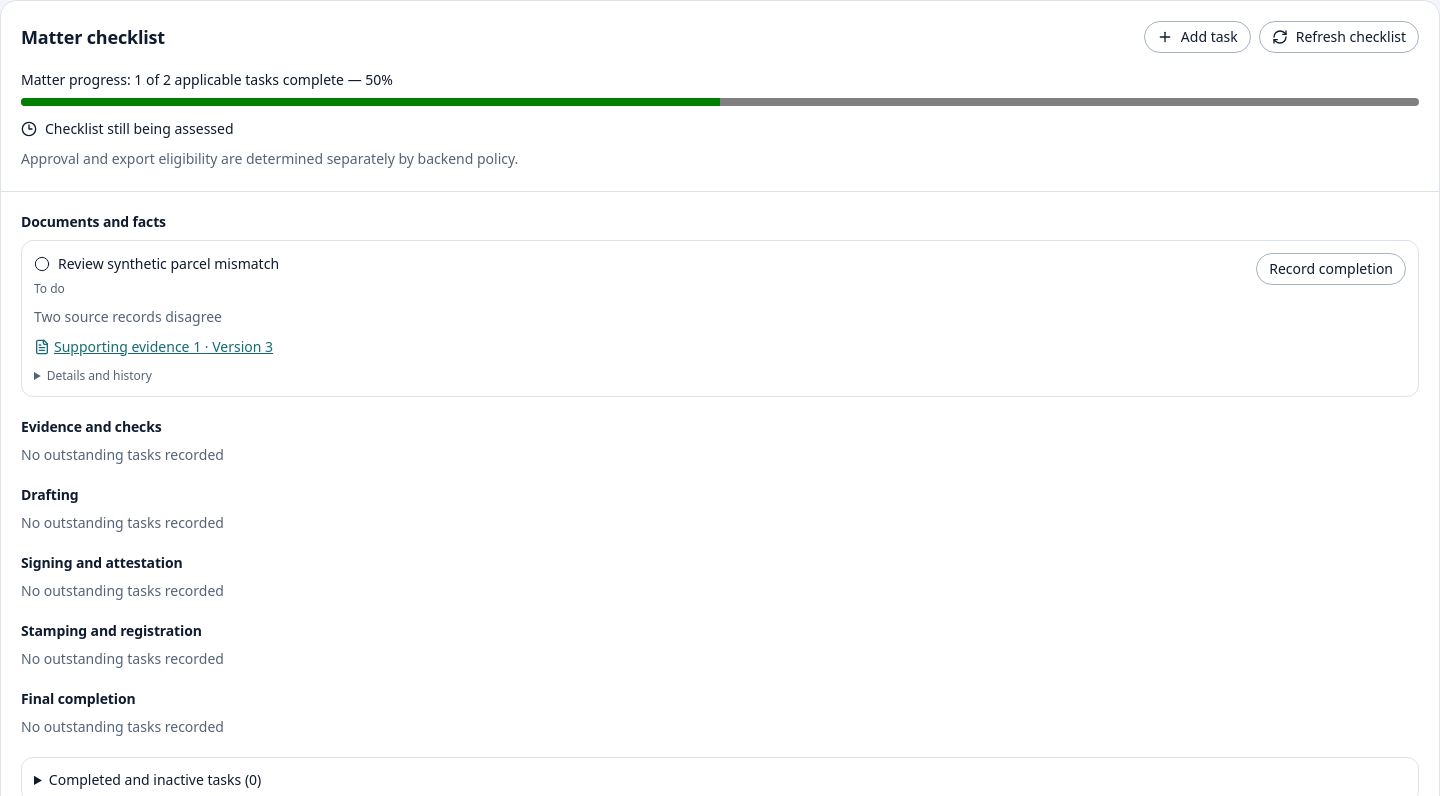
retains accepted suggestion source pins when completing and shows renewed review after a source change
The width and height of the screenshot is (1440, 796).
Click the button "Record completion" at [1331, 269], box [1256, 253, 1406, 285]
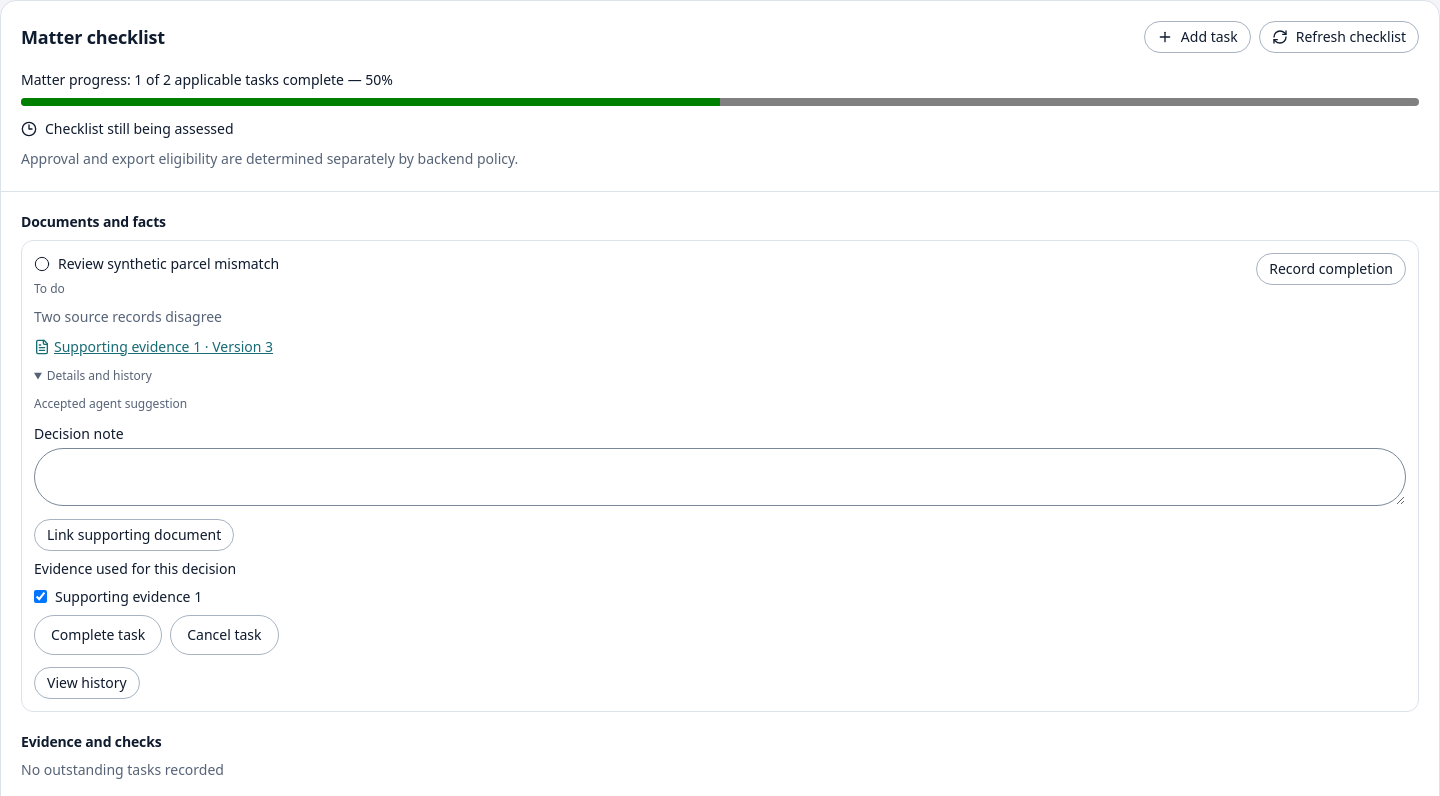
Expected: the checkbox labelled "Supporting evidence 1" is checked, [34, 590, 47, 603]
Click the button "Complete task" at [98, 634], box [34, 614, 162, 654]
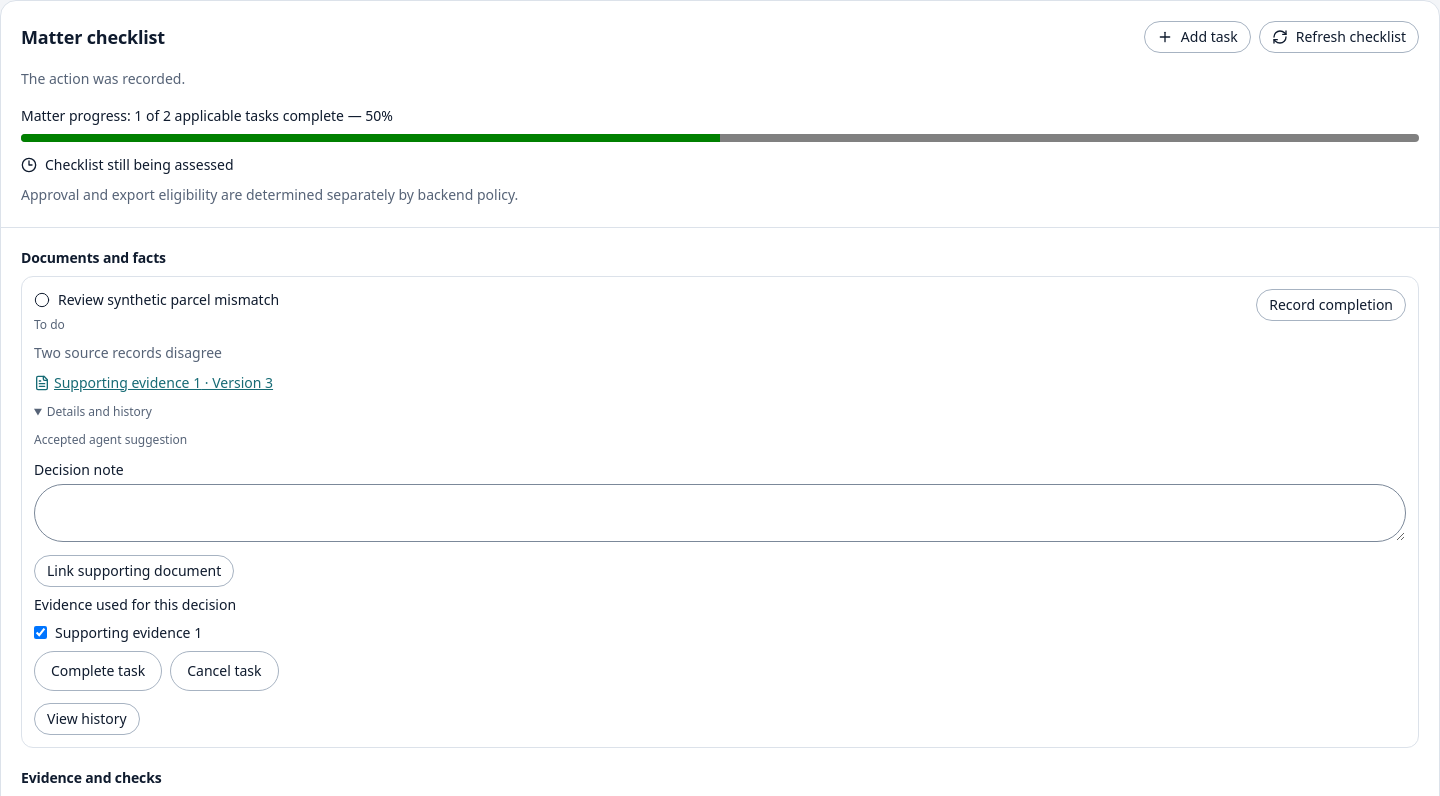
Click the button "Refresh checklist" at [1339, 37], box [1259, 21, 1419, 53]
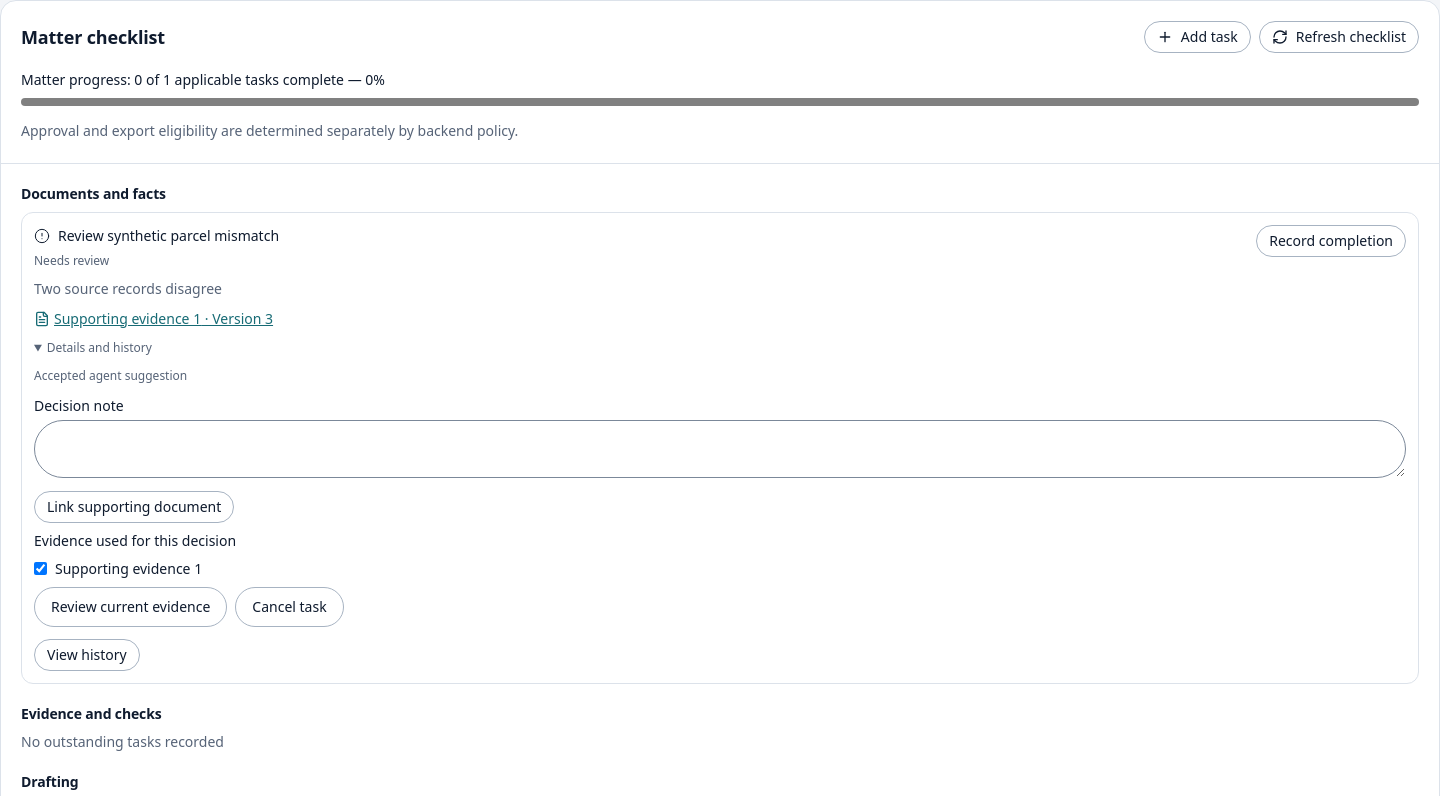
Expected: the progress indicator holds "0", [21, 98, 1419, 106]
Expected: the text "Needs review" is shown, [34, 252, 109, 268]
